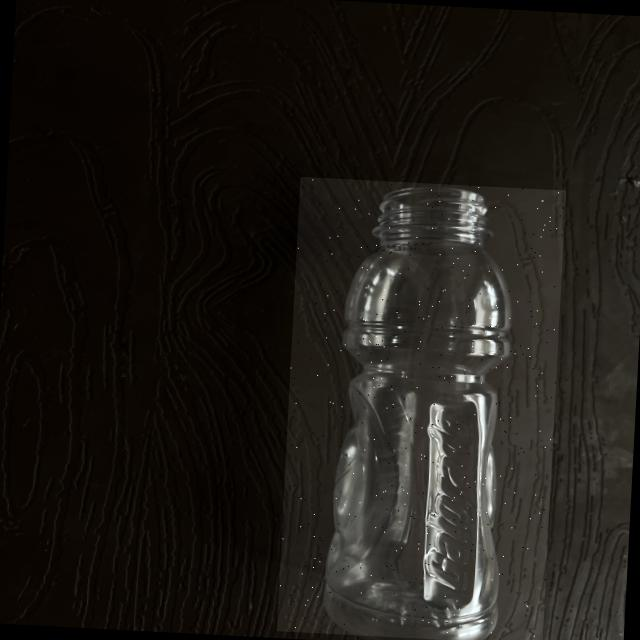PET_ClearBottle: (277, 177, 566, 640)
